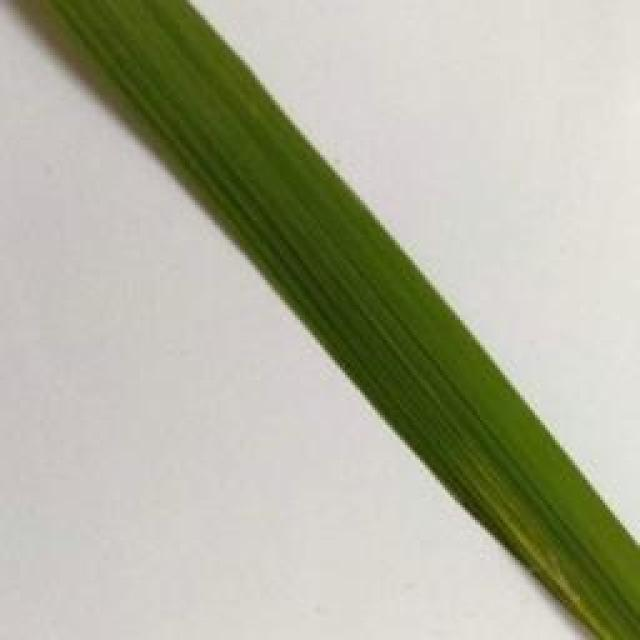Healthy-Plant: (55, 3, 505, 449)
